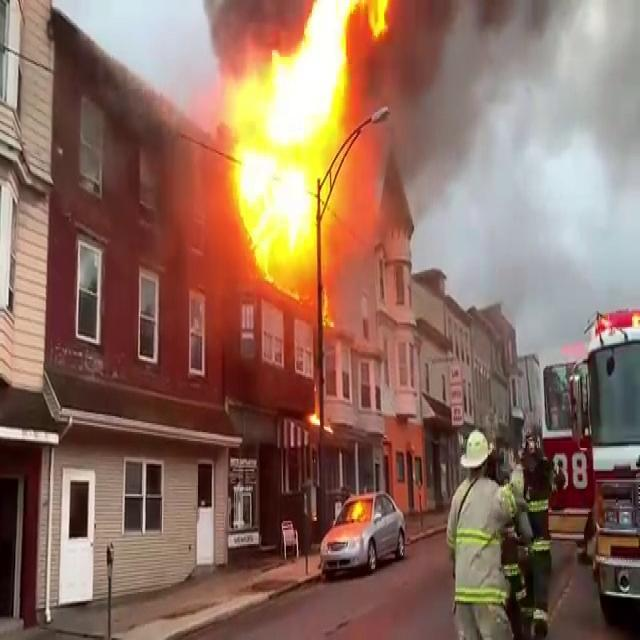Fire: (218, 0, 372, 295)
Smoke: (358, 0, 640, 316), (336, 0, 640, 231)
